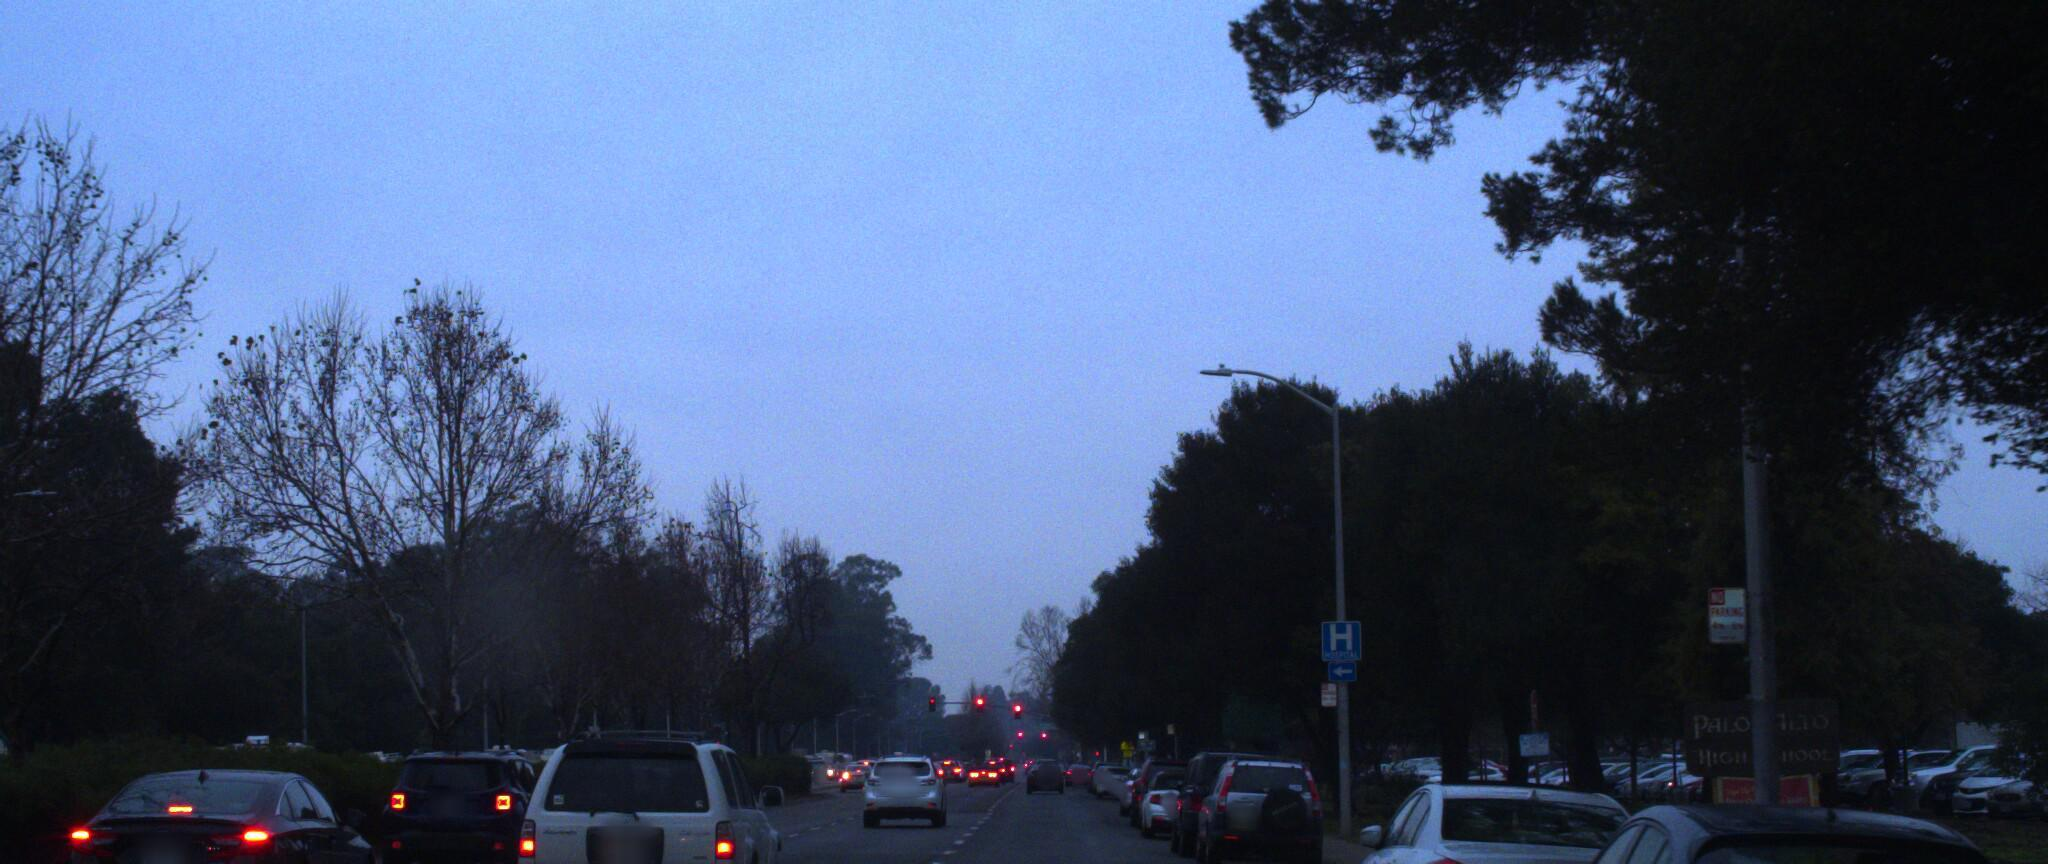car: (1479, 764, 2048, 864), (1311, 754, 1716, 864), (500, 726, 789, 864), (55, 758, 385, 864), (380, 732, 573, 864), (1763, 777, 2048, 864), (1178, 732, 1327, 861), (858, 737, 948, 814)
other_vehicle: (0, 709, 14, 807)
